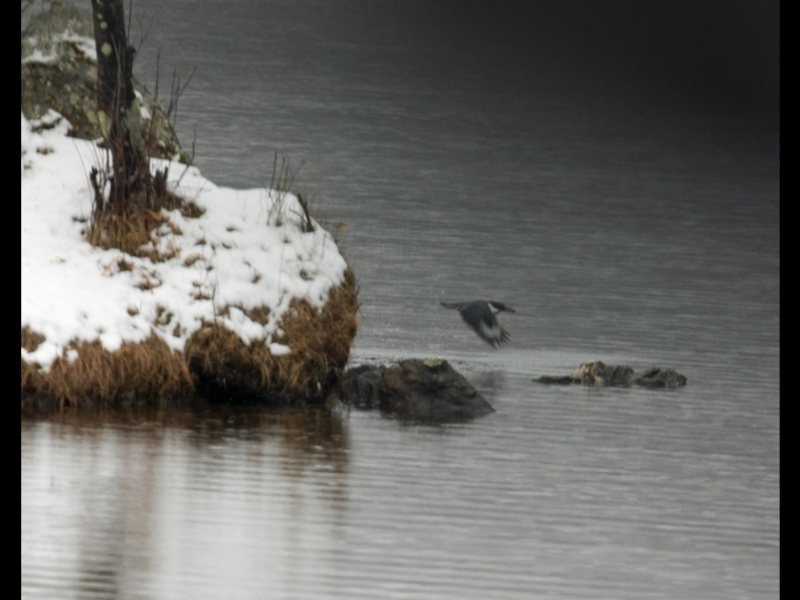kingfisher: (437, 295, 525, 352)
